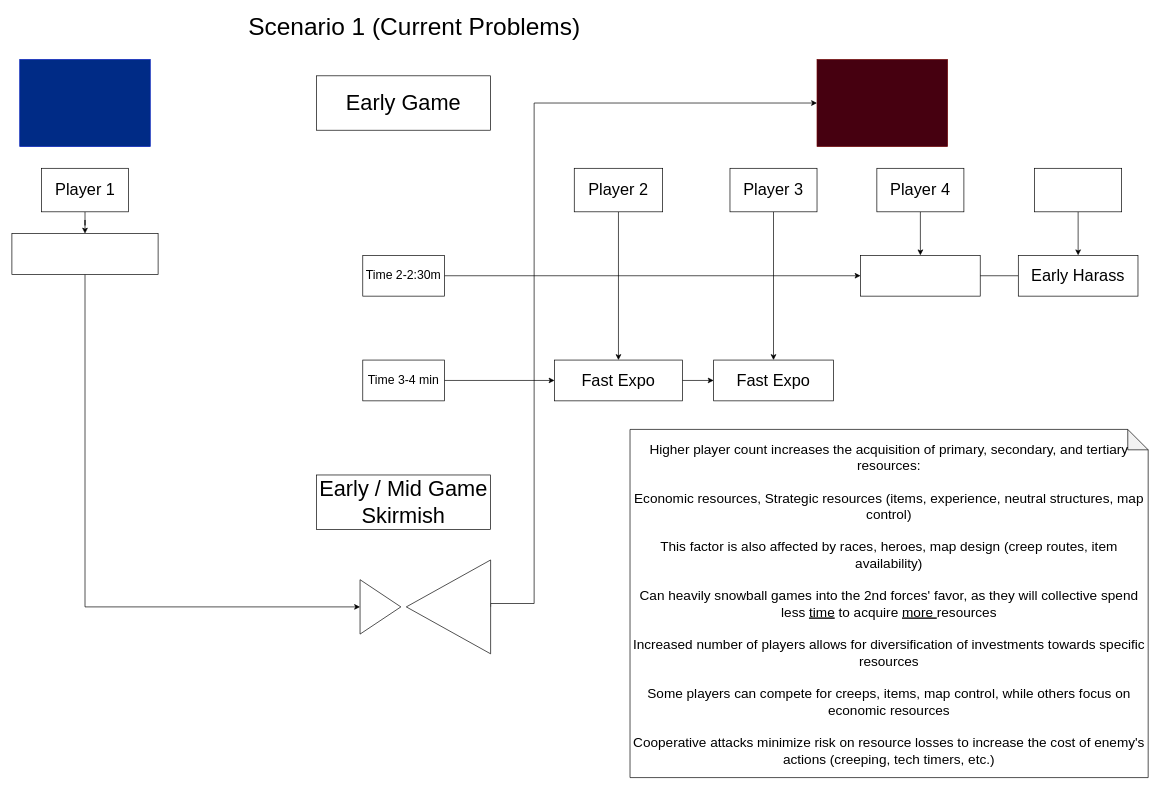
This 1160x789 diagram has some shape labels left out. Here are the shapes that lost their labels. From the top down, the centre of each, then its label:
At [84,103]: "Team 1".
At [882,103]: "Team 2".
At [1078,190]: "Player 5".
At [84,253]: "Standard Opener".
At [920,275]: "All-In".
